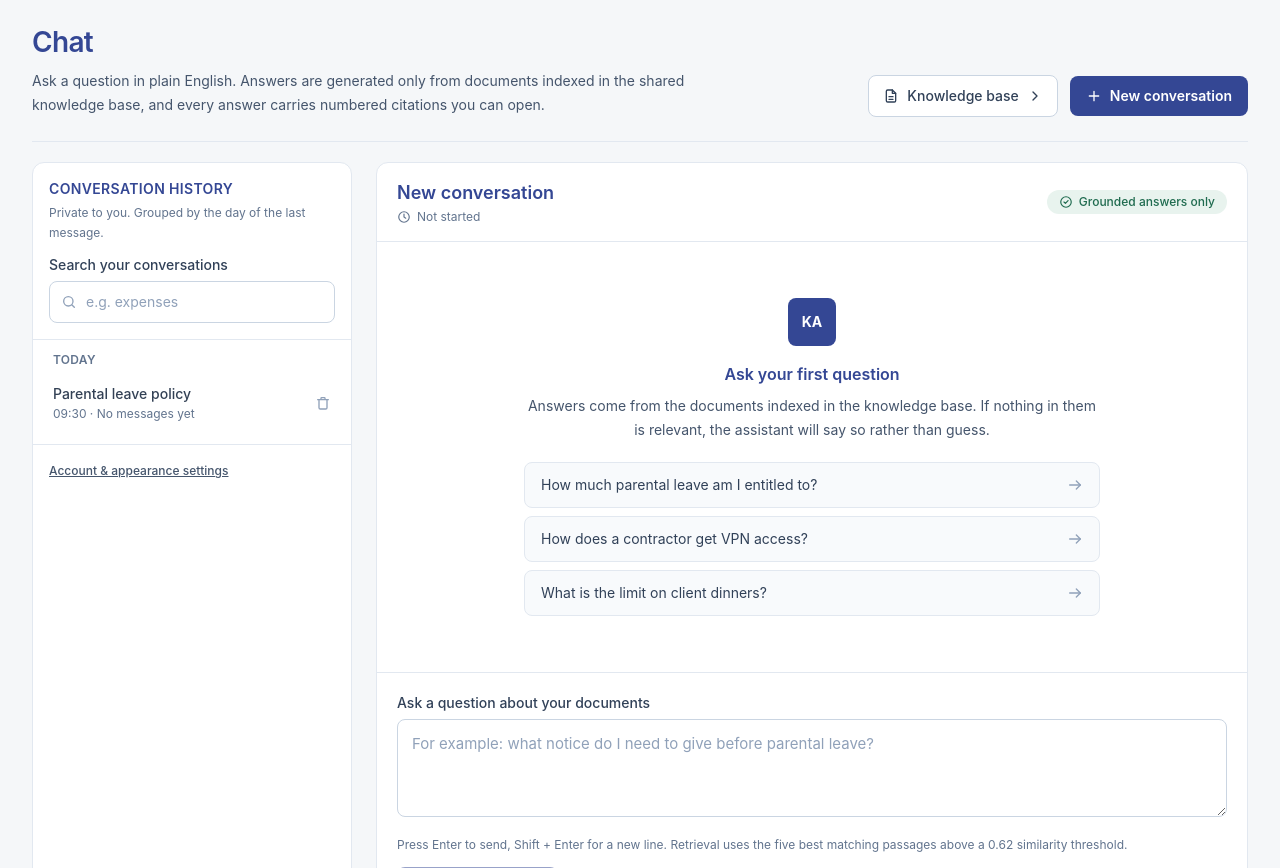
Test case: Chat screen › conversation history: list, open, search, delete › selecting a conversation loads its full message list and citations from GET /conversations/{id}
Click the text "Parental leave policy" at (122, 394), box [53, 385, 191, 402]
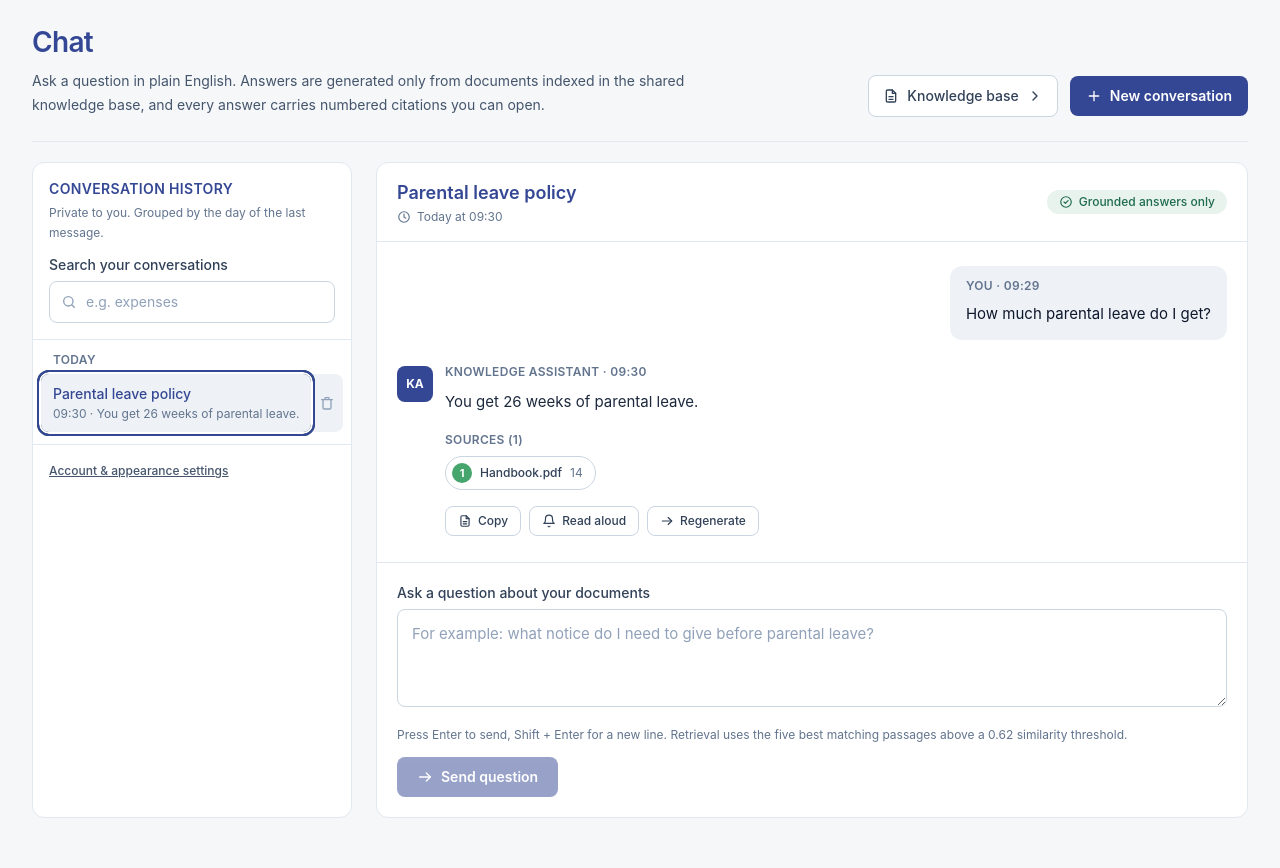
Result: the text "You get 26 weeks of parental leave." is shown at [445, 392, 698, 411]
Result: the text "How much parental leave do I get?" is shown at [966, 300, 1211, 328]
Result: the text "Handbook.pdf" is shown at [480, 465, 562, 481]
